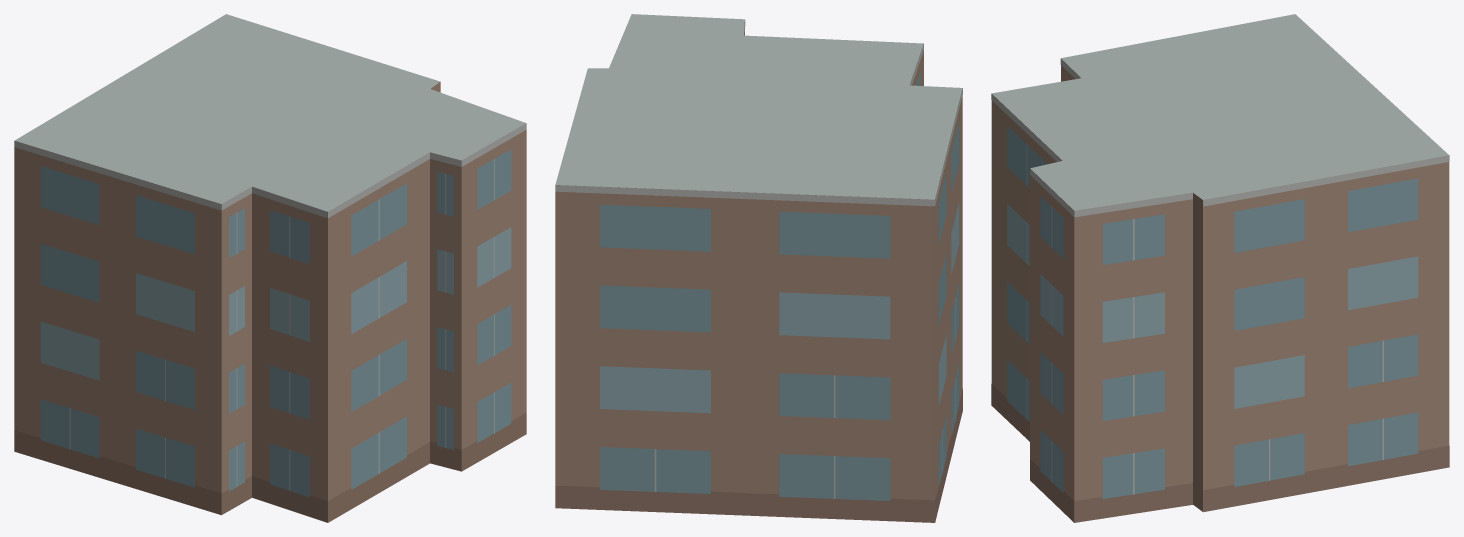
Rendered from survey-upis-32670527.glb.
3 renders of one model, left to right at view 1: azimuth 30°, elevation 25°; view 2: azimuth 150°, elevation 25°; view 3: azimuth 270°, elevation 25°, orthographic. The views are drawn at different scales.
Visible parts, largest first — view 1: survey-upis-32670527.tmp; view 2: survey-upis-32670527.tmp; view 3: survey-upis-32670527.tmp.
Boxes of the visible parts, left/top/right/bottom form: survey-upis-32670527.tmp: left=14, top=14, right=526, bottom=522; survey-upis-32670527.tmp: left=555, top=14, right=962, bottom=522; survey-upis-32670527.tmp: left=991, top=14, right=1449, bottom=522.
Bounding box in the file's own units: 15.84 × 11.7 × 15.57.
